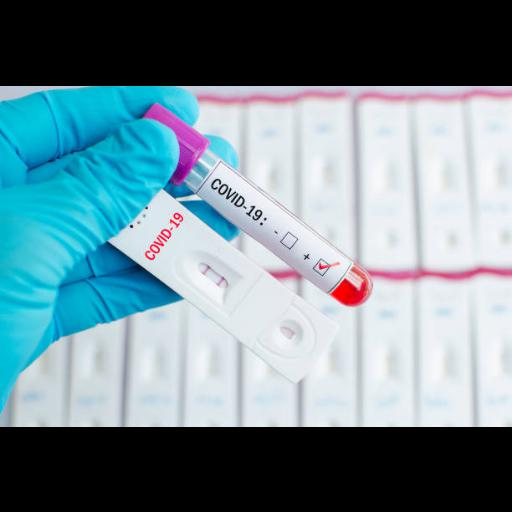Pos: (115, 188, 339, 382)
